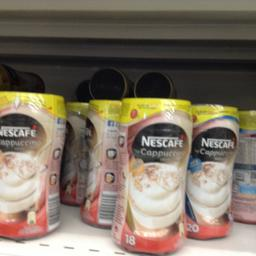coffee: (111, 97, 192, 255), (0, 90, 66, 242), (183, 103, 239, 239)
